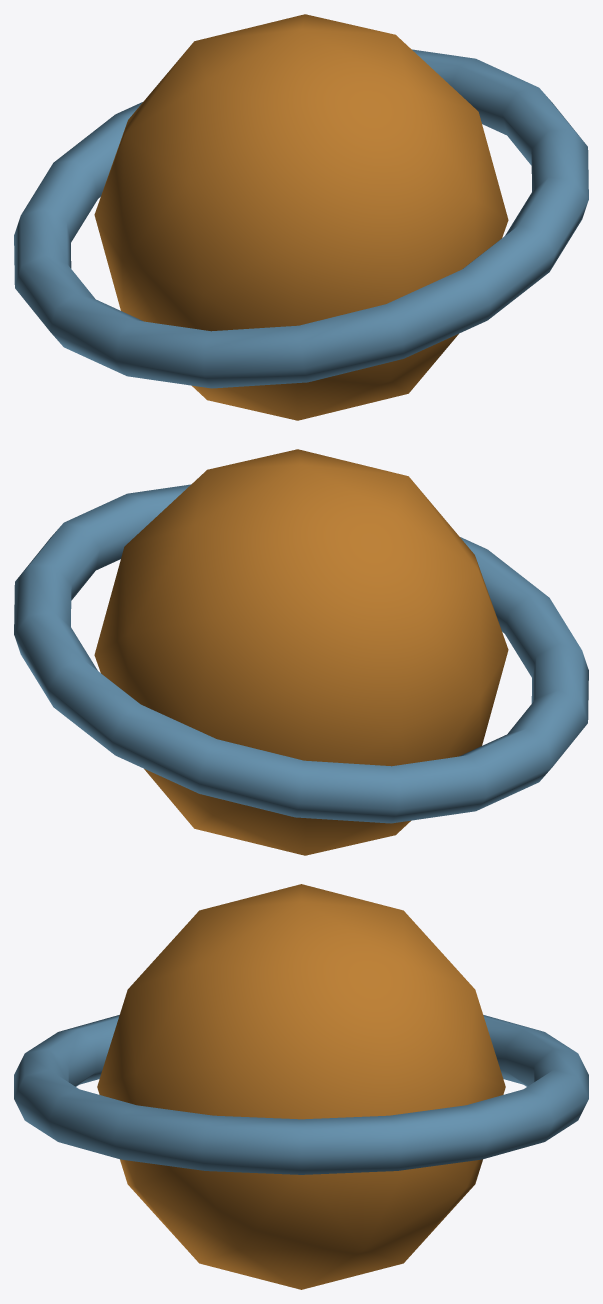
The model's file is wpn_r_10.glb.
3 renders of one model, top to bottom at view 1: azimuth 30°, elevation 25°; view 2: azimuth 150°, elevation 25°; view 3: azimuth 270°, elevation 25°, orthographic.
Parts seen in each view (by area): view 1: orb, orb_ring; view 2: orb, orb_ring; view 3: orb, orb_ring.
Part boxes in pixels (x1=…): orb: x1=94, y1=14, x2=508, y2=420; orb_ring: x1=14, y1=49, x2=588, y2=388; orb: x1=94, y1=449, x2=508, y2=855; orb_ring: x1=14, y1=484, x2=588, y2=823; orb: x1=97, y1=884, x2=505, y2=1289; orb_ring: x1=14, y1=1015, x2=588, y2=1174.
Bounding box in the file's own units: 0.588 × 0.42 × 0.5909.
